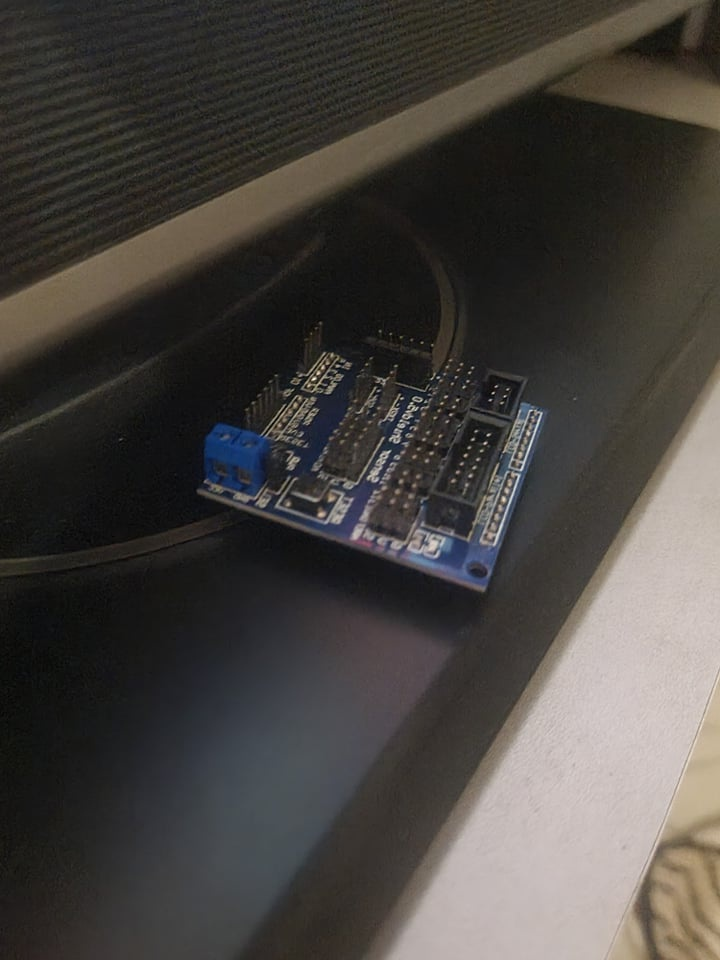5V EXPANSION: (191, 315, 546, 598)
